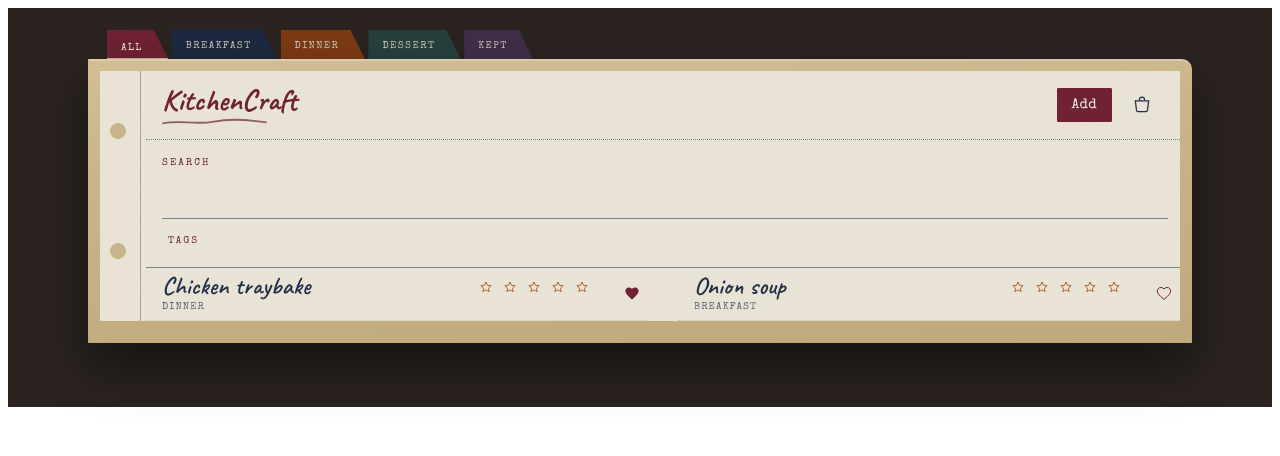
Test case: search and filters on the page › reaches a favourites-only view in one interaction
This screenshot has width=1280, height=456.
Click the button with test id "tab-kept". click: (499, 45)
box: [464,30,534,60]
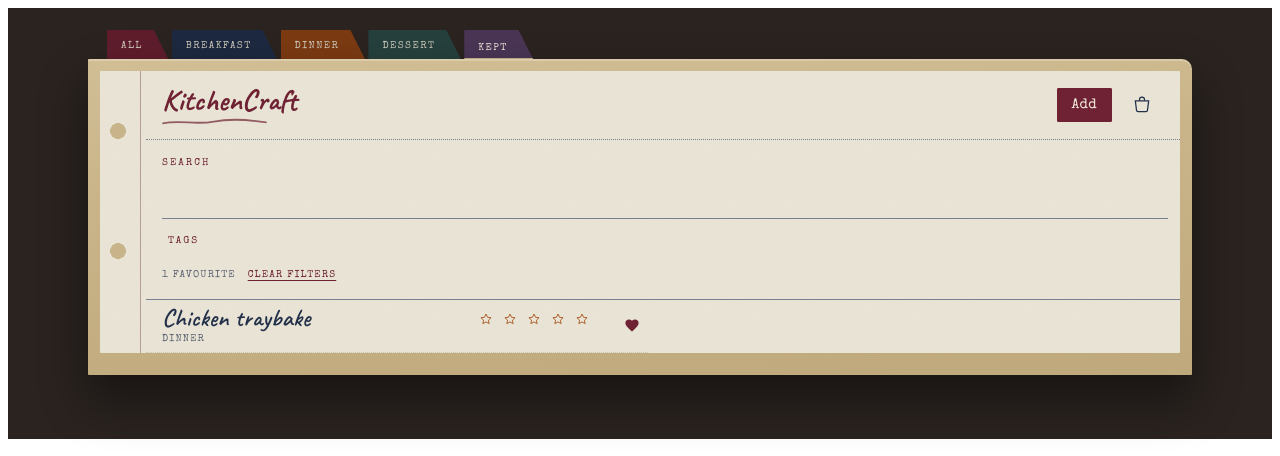
Result: the number of list items with class "kc-row" is 1 at [146,300,648,353]
Result: the text with test id "count" reads "1 favourite" at [162,270,236,280]
